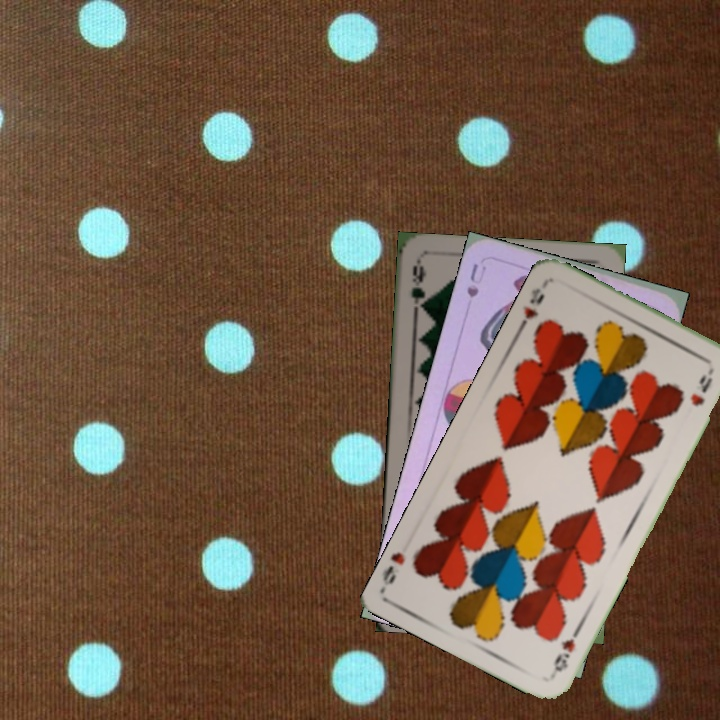G9: (407, 257, 429, 317)
H9: (514, 279, 550, 334), (549, 634, 578, 678)
SU: (462, 259, 489, 301)
